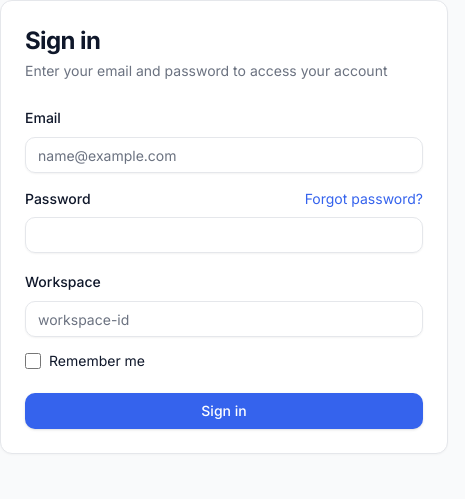
LoginForm › validation › should show error for empty email on submit
// Fill in only password and workspace
Type "password123" into the password field labelled "Password" at [224, 235], box [25,217,423,253]
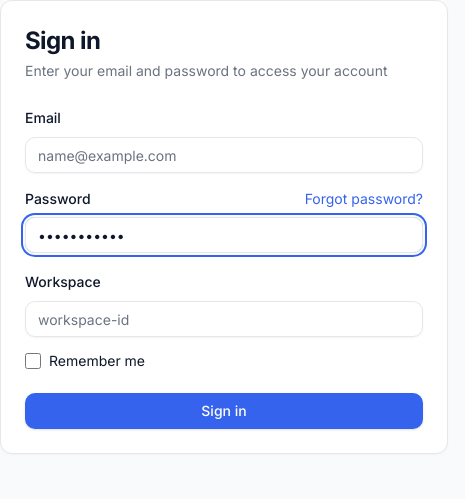
Type "test-tenant" into the field labelled "Workspace" at [224, 319], box [25,301,423,337]
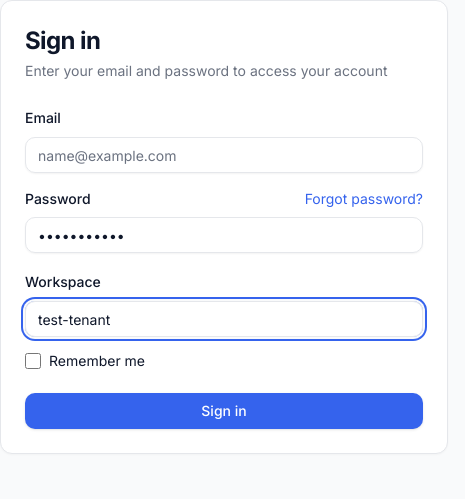
// Submit form
Click the button "Sign in" at [224, 411], box [25,393,423,429]
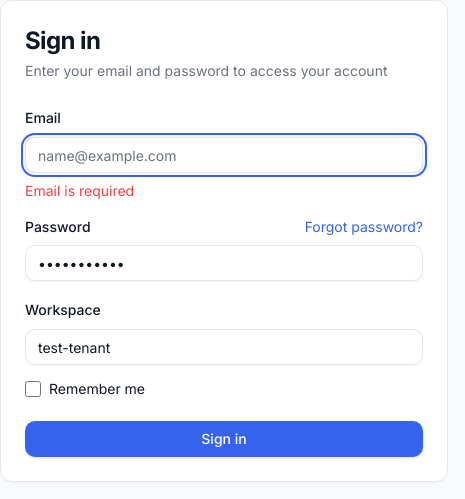
Expected: the text "Email is required" is shown, [25,182,134,199]
